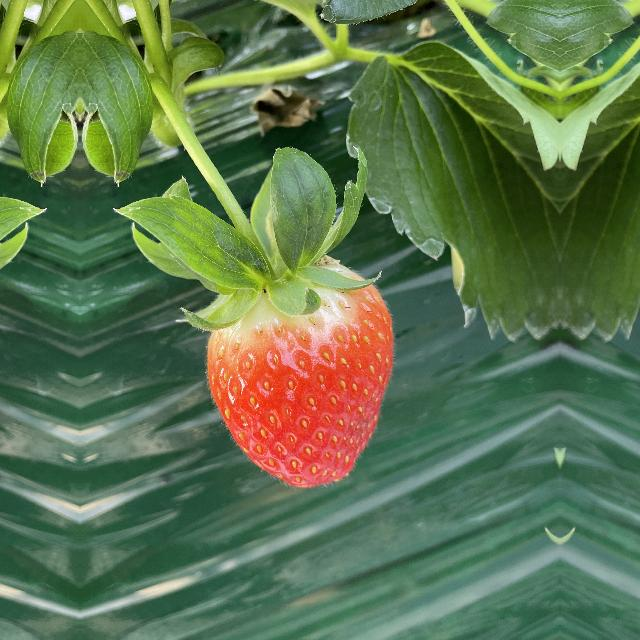Health_100: (198, 257, 400, 493)
